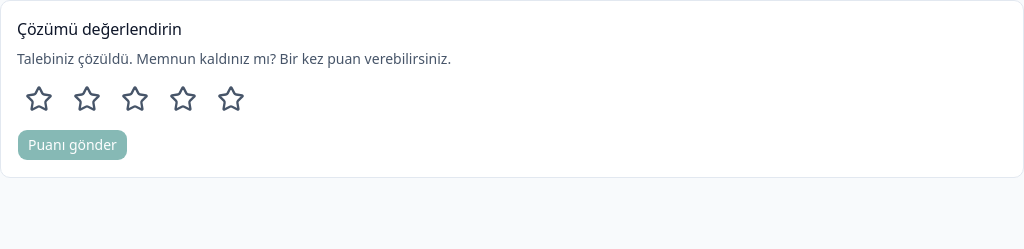
Test: Stars and RatingPicker › RatingPicker shows a refusal in Turkish
Click the radio button named "5 yıldız" at point(231, 99), box [209, 77, 253, 121]
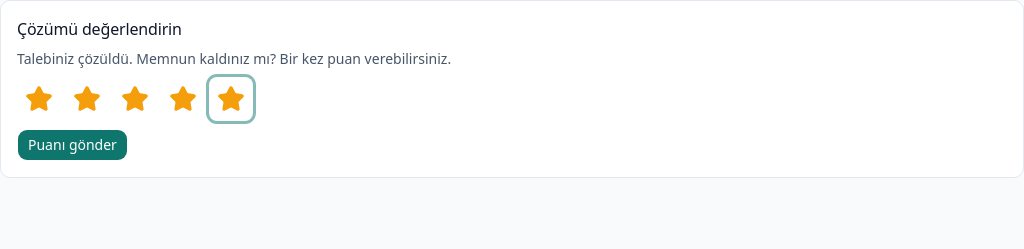
Click the button "Puanı gönder" at point(72, 145), box [17, 129, 128, 161]
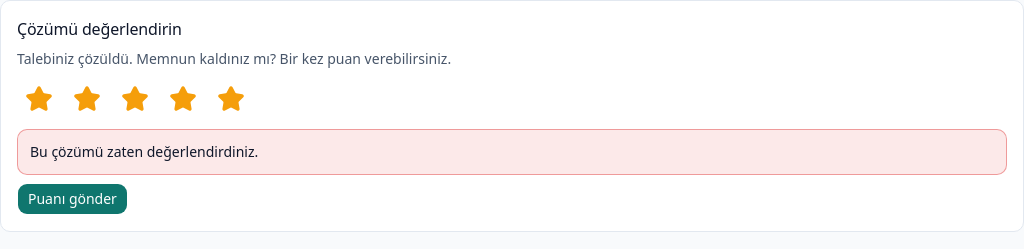
Check: the text "Bu çözümü zaten değerlendirdiniz." is shown, box [17, 129, 1007, 175]
